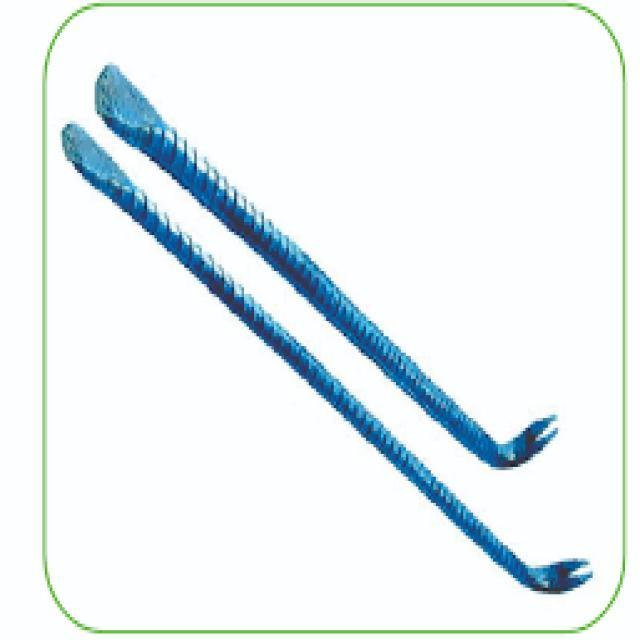Linggis: (50, 50, 597, 604)
